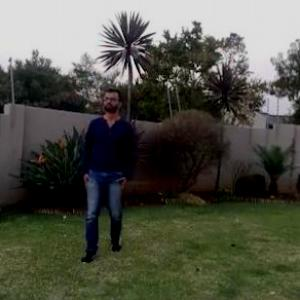follow: (74, 78, 138, 270)
